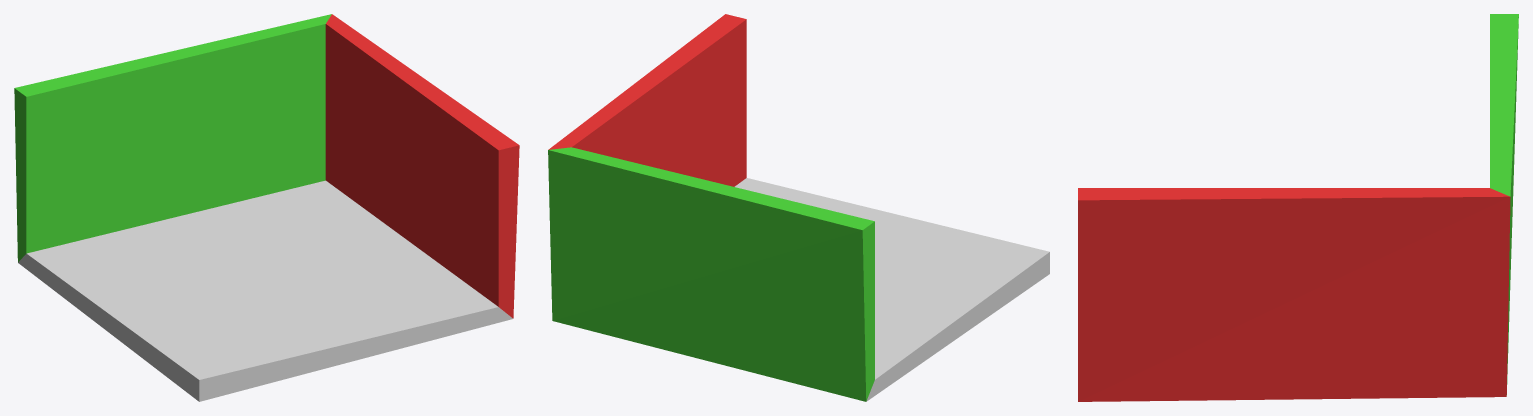
The model's file is platform.obj.
3 views of the same model, side by side, from view 1: azimuth 30°, elevation 25°; view 2: azimuth 150°, elevation 25°; view 3: azimuth 270°, elevation 25° (orthographic). The views are drawn at different scales.
Visible parts, largest first — view 1: Plane; view 2: Plane; view 3: Plane.
Boxes of the visible parts, box(x1,y1,x2,y2) form: Plane: box(14, 14, 519, 401); Plane: box(548, 14, 1049, 401); Plane: box(1078, 14, 1518, 401).
Bounding box in the file's own units: 8.56 × 4.56 × 8.56.
